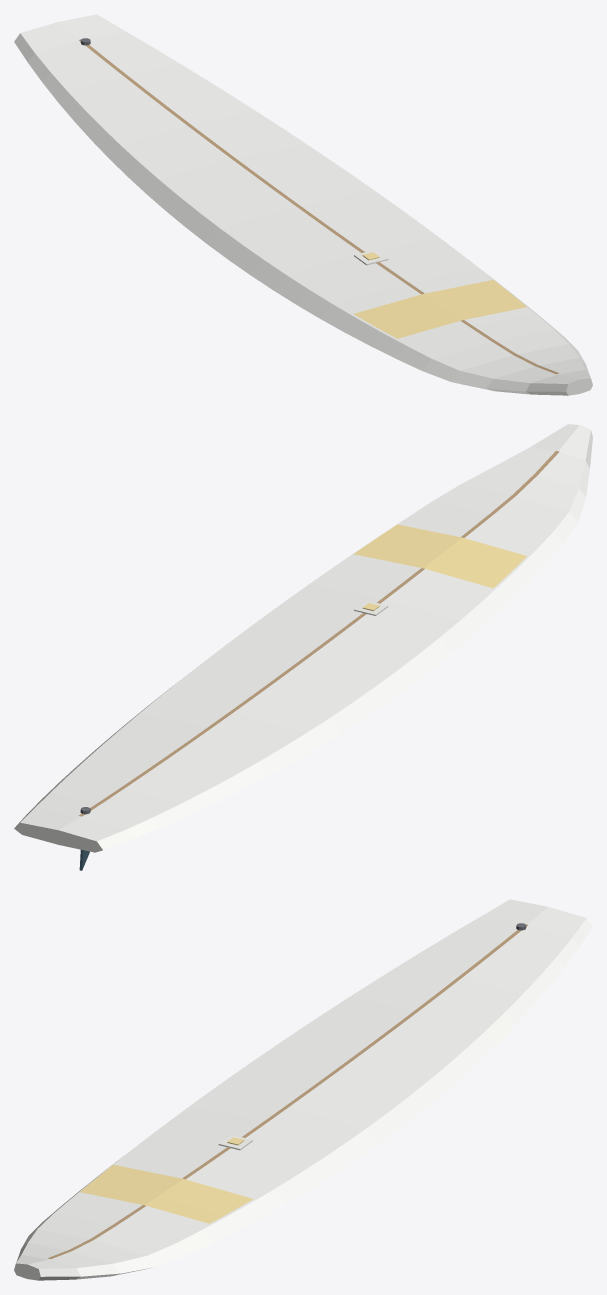
Rendered from BoardLong.fbx.
The picture shows the model from 3 angles, top to bottom: view 1: azimuth 30°, elevation 25°; view 2: azimuth 150°, elevation 25°; view 3: azimuth 330°, elevation 25°; orthographic projection.
Visible parts, largest first — view 1: BoardLong; view 2: BoardLong; view 3: BoardLong.
Part boxes in pixels (x1=…): BoardLong: x1=14, y1=14, x2=592, y2=395; BoardLong: x1=14, y1=424, x2=592, y2=870; BoardLong: x1=14, y1=899, x2=592, y2=1280.
Bounding box in the file's own units: 0.58 × 0.2509 × 2.9.
